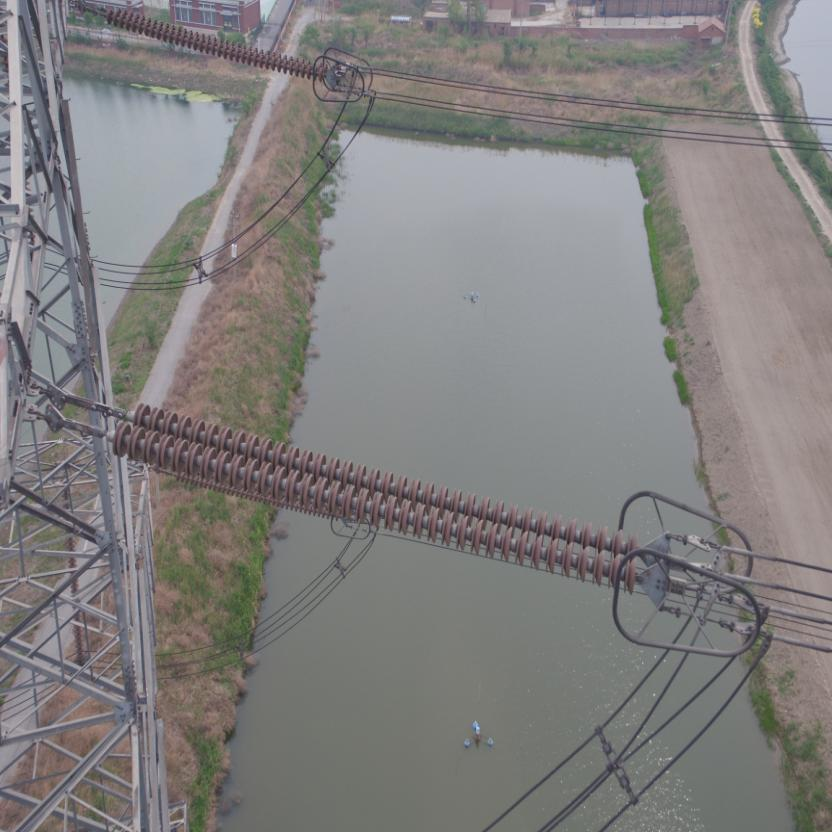insulator: (89, 396, 651, 600), (90, 0, 330, 85)
